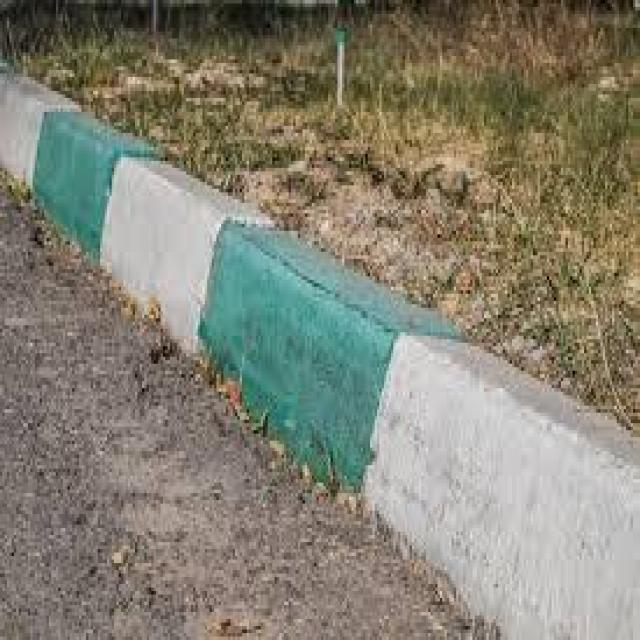bump: (37, 89, 640, 620)
